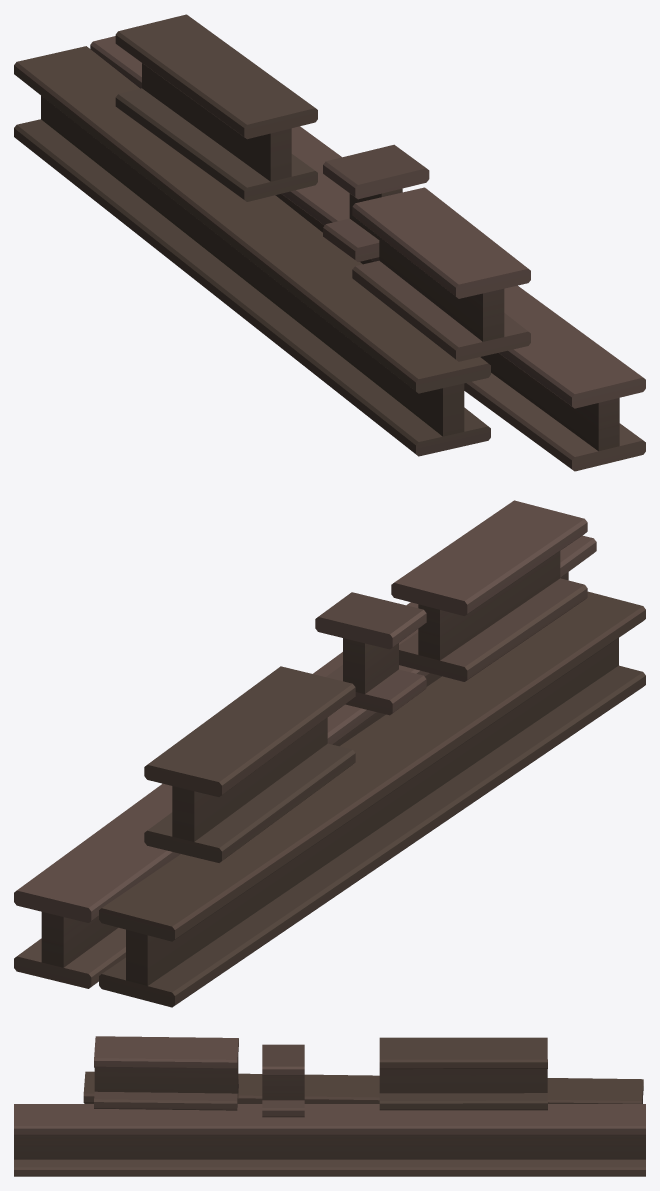
The model's file is Rails_C_4_1.fbx.
The picture shows the model from 3 angles, top to bottom: view 1: azimuth 30°, elevation 25°; view 2: azimuth 150°, elevation 25°; view 3: azimuth 270°, elevation 25°; orthographic projection. The views are drawn at different scales.
Parts seen in each view (by area): view 1: Rails_C_4_1; view 2: Rails_C_4_1; view 3: Rails_C_4_1.
Part boxes in pixels (x1=…): Rails_C_4_1: x1=14, y1=14, x2=645, y2=471; Rails_C_4_1: x1=14, y1=500, x2=645, y2=1007; Rails_C_4_1: x1=14, y1=1036, x2=645, y2=1176.
Bounding box in the file's own units: 88.98 × 74.86 × 423.
